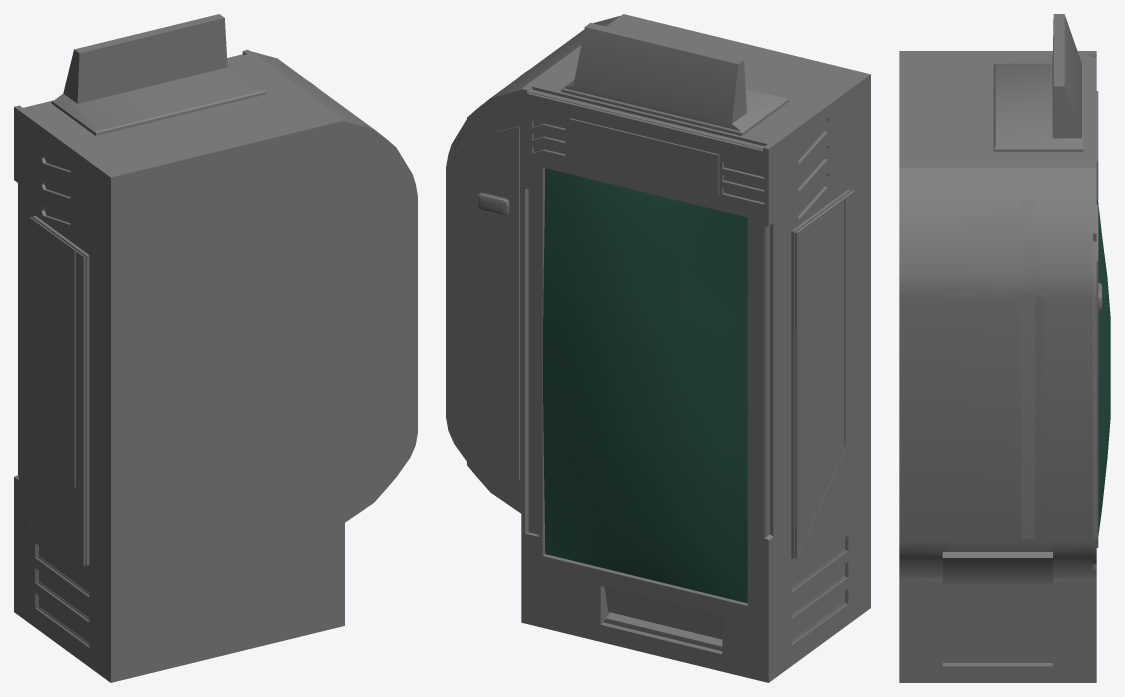
The model's file is Shop.fbx.
3 renders of one model, left to right at view 1: azimuth 30°, elevation 25°; view 2: azimuth 150°, elevation 25°; view 3: azimuth 270°, elevation 25°, orthographic. The views are drawn at different scales.
Visible parts, largest first — view 1: Shop; view 2: Shop; view 3: Shop.
Part boxes in pixels (x1,y1,x2,y2): Shop: (14, 14, 417, 682); Shop: (446, 14, 870, 682); Shop: (899, 14, 1110, 682).
Size of the model in its own units: 54.16 by 92.69 by 30.94.
